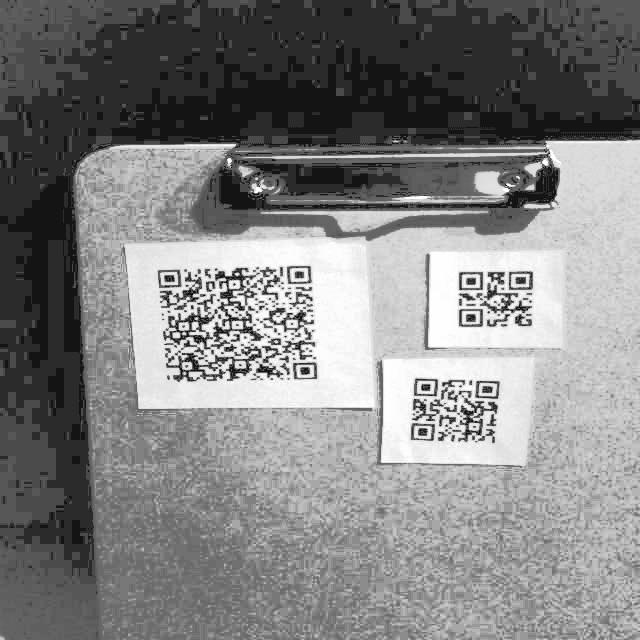qr_code: (146, 250, 327, 386), (399, 368, 511, 450), (444, 258, 545, 340)
